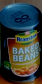beans: (1, 3, 42, 84)
